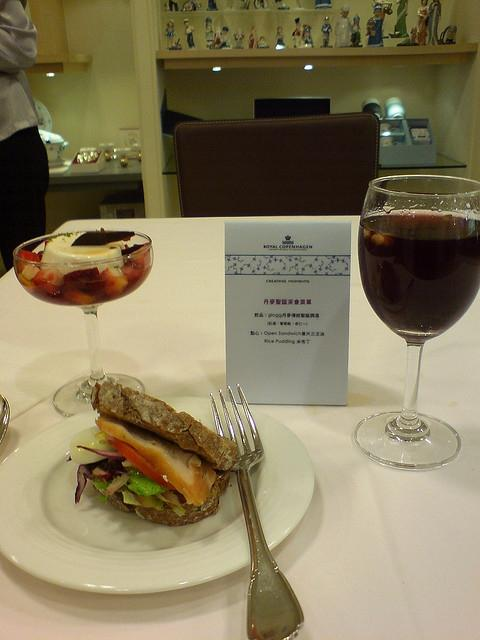strawberry: (61, 266, 105, 294), (100, 265, 128, 297), (32, 268, 64, 296), (131, 242, 150, 269), (18, 249, 40, 272), (122, 266, 145, 279)
